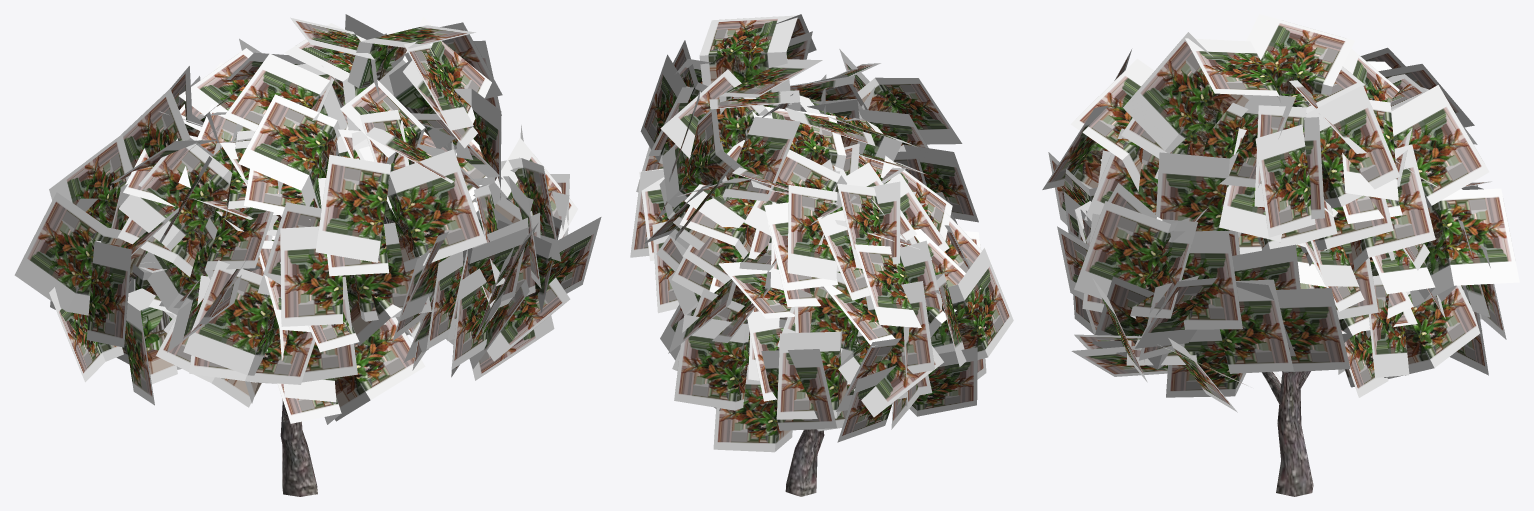
Rendered from tree3.glb.
3 views of the same model, side by side, from view 1: azimuth 30°, elevation 25°; view 2: azimuth 150°, elevation 25°; view 3: azimuth 270°, elevation 25° (orthographic). The views are drawn at different scales.
Visible parts, largest first — view 1: leaf; view 2: leaf; view 3: leaf.
Part boxes in pixels (x1=…): leaf: x1=14, y1=14, x2=601, y2=496; leaf: x1=630, y1=14, x2=1013, y2=496; leaf: x1=1042, y1=14, x2=1519, y2=496.
Bounding box in the file's own units: 18.58 × 18.7 × 16.74.
1 material, 1 textured.
